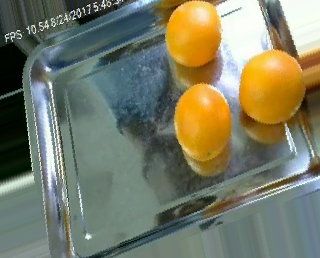Orange: (238, 48, 306, 123), (174, 82, 232, 162), (165, 1, 221, 67)
